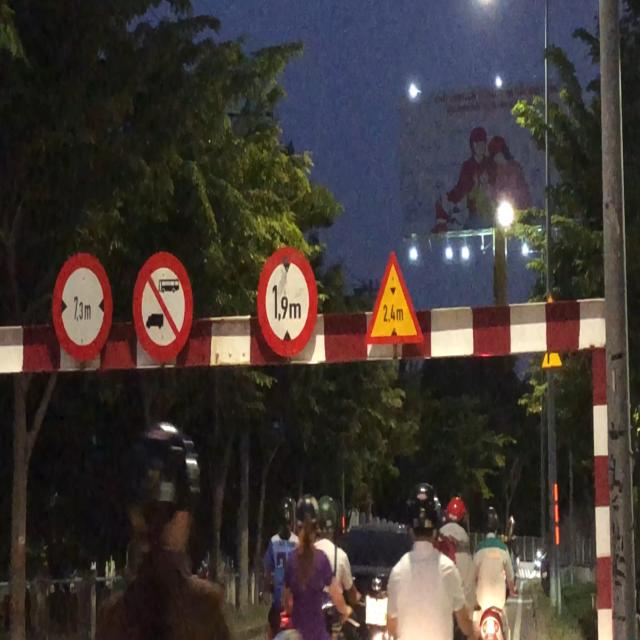Bien bao cam xe oto khach va xe oto tai: (133, 250, 200, 370)
Bien bao chieu cao tinh khong thuc te: (365, 241, 424, 356)
Bien bao han che chieu cao: (253, 236, 321, 362)
